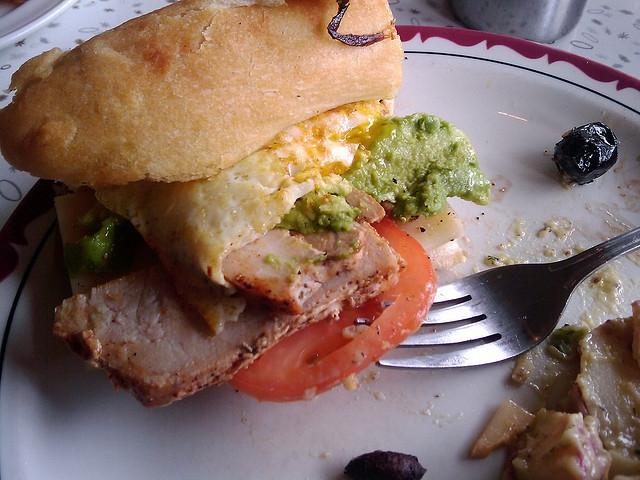tomato: (226, 216, 438, 403)
